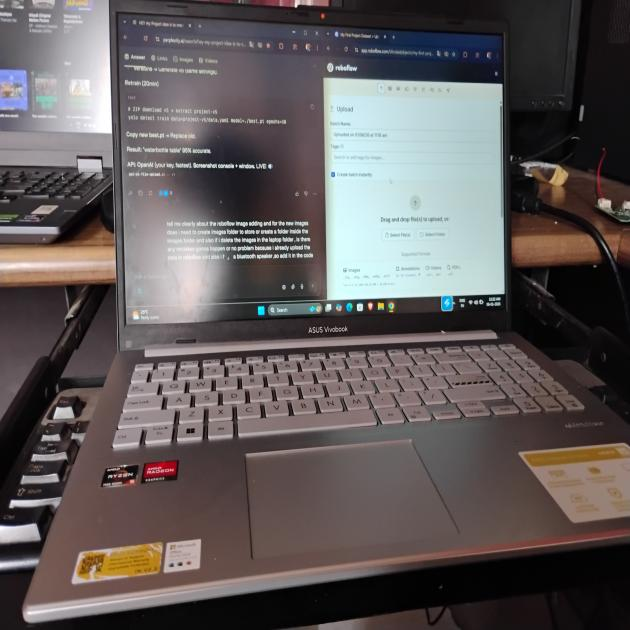laptop: (32, 2, 630, 606)
